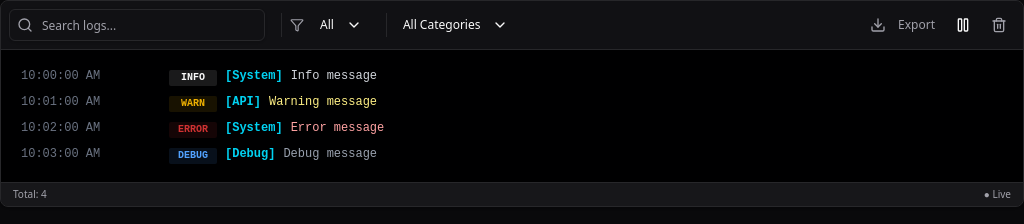
Test case: LogViewer › Category Selection › should clear category filter when All Categories is selected
The width and height of the screenshot is (1024, 224).
// First select a category
Click the button "All Categories".
click(456, 25)  # box [395,13,516,37]
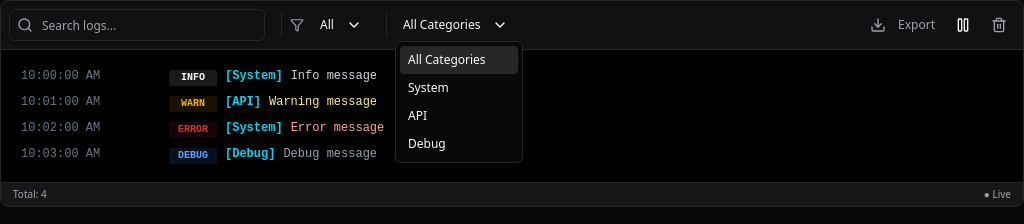
Click the menu item "System".
click(428, 88)  # box [408,79,449,96]
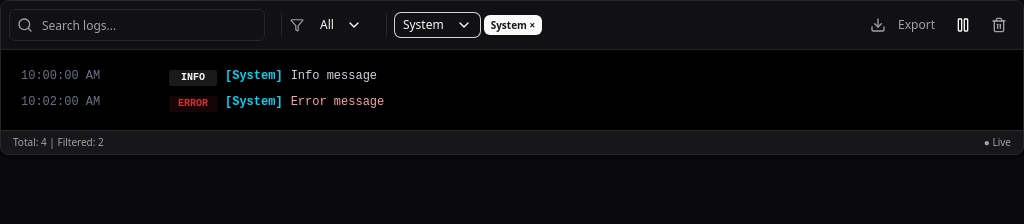
// Now clear the filter by selecting All Categories
Click the button "System".
click(437, 25)  # box [395,13,480,37]
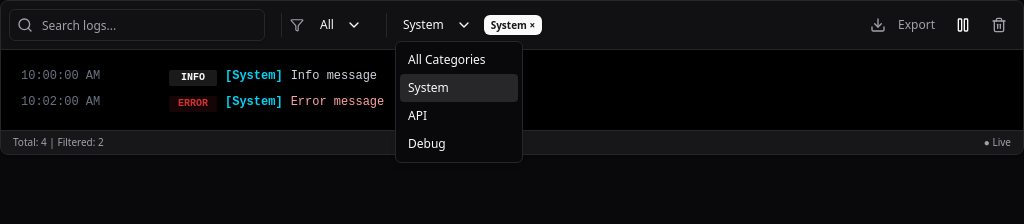
Click the menu item "All Categories".
click(447, 60)  # box [408,51,486,68]
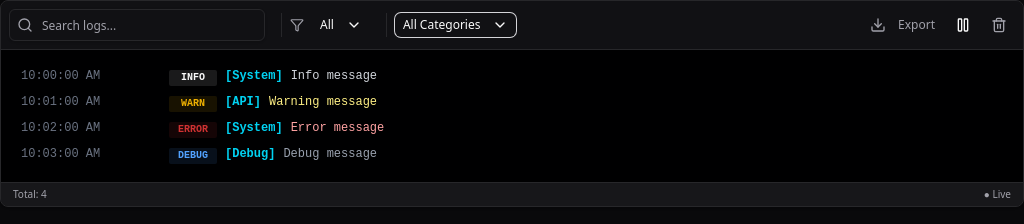
Expected: the text "Info message" is shown, [291,68,377,86]
Now the text "Warning message" is shown, box [269,94,377,112]
